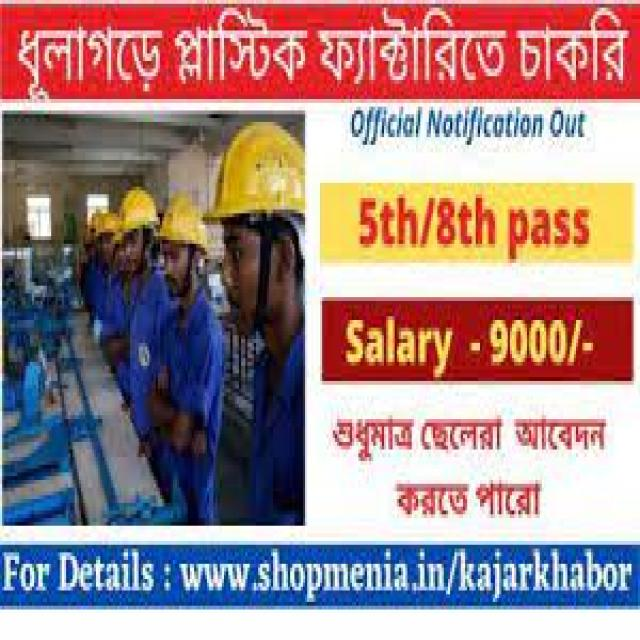Safety-Helmet: (200, 115, 312, 232), (156, 190, 211, 256), (117, 183, 160, 240)
